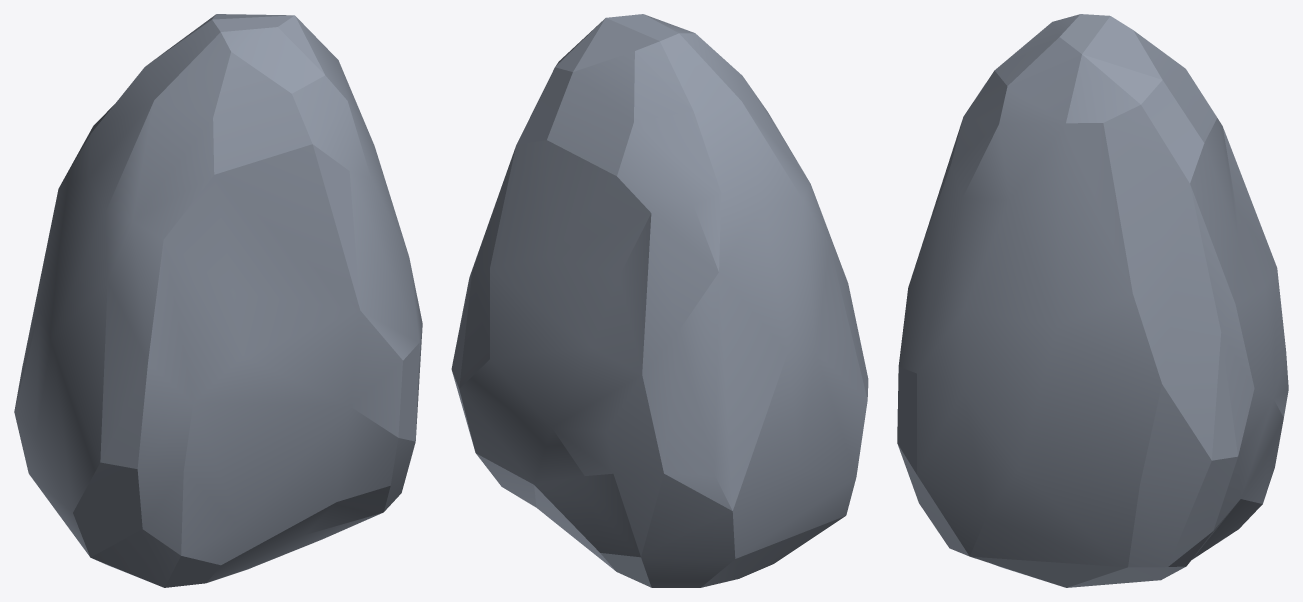
File: Stone 1.fbx
3 renders of one model, left to right at view 1: azimuth 30°, elevation 25°; view 2: azimuth 150°, elevation 25°; view 3: azimuth 270°, elevation 25°, orthographic. The views are drawn at different scales.
Parts seen in each view (by area): view 1: Stone; view 2: Stone; view 3: Stone.
Part boxes in pixels (x1,y1,x2,y2): Stone: (14, 14, 422, 587); Stone: (451, 14, 868, 587); Stone: (897, 14, 1288, 587).
Bounding box in the file's own units: 172 × 253 × 160.
